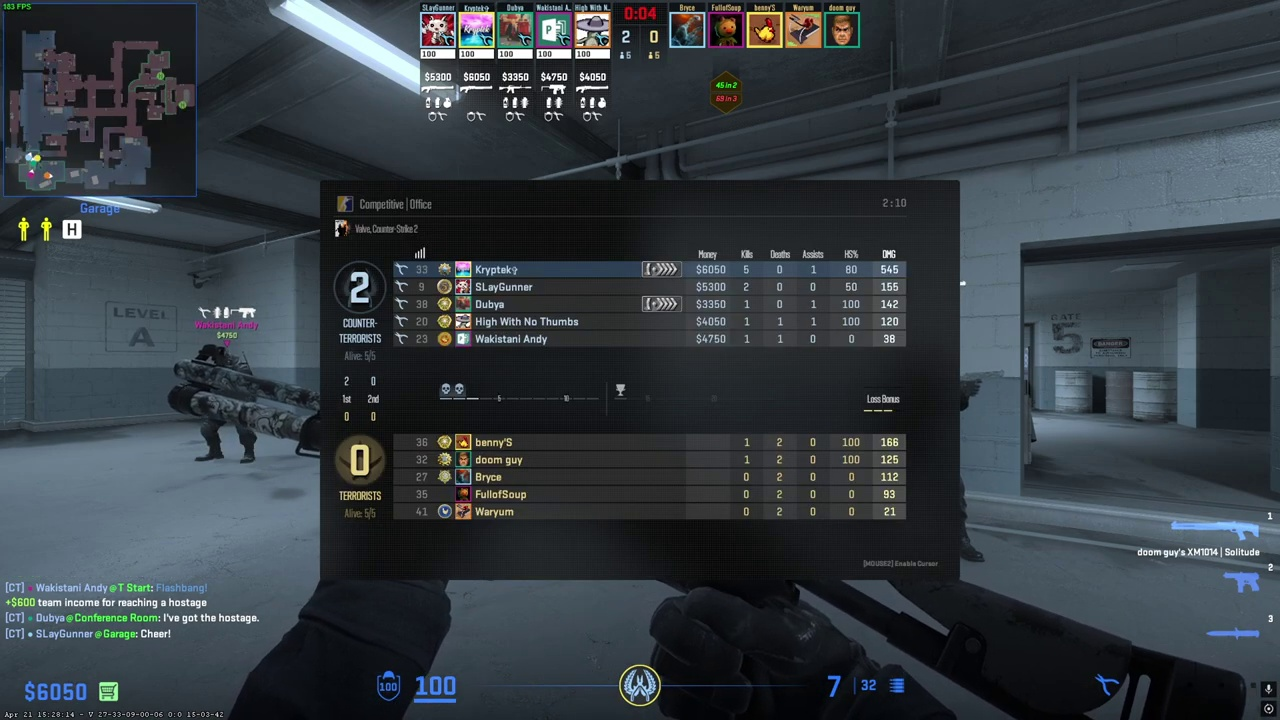CT: (185, 349, 261, 464)
